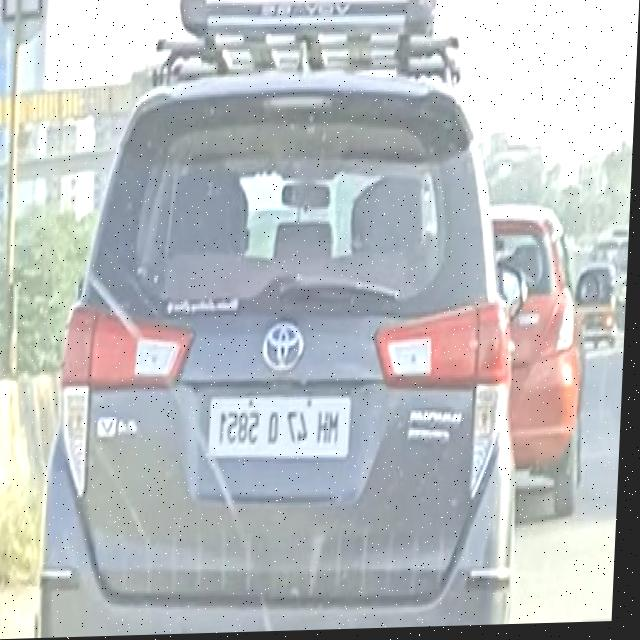plate: (202, 391, 365, 470)
